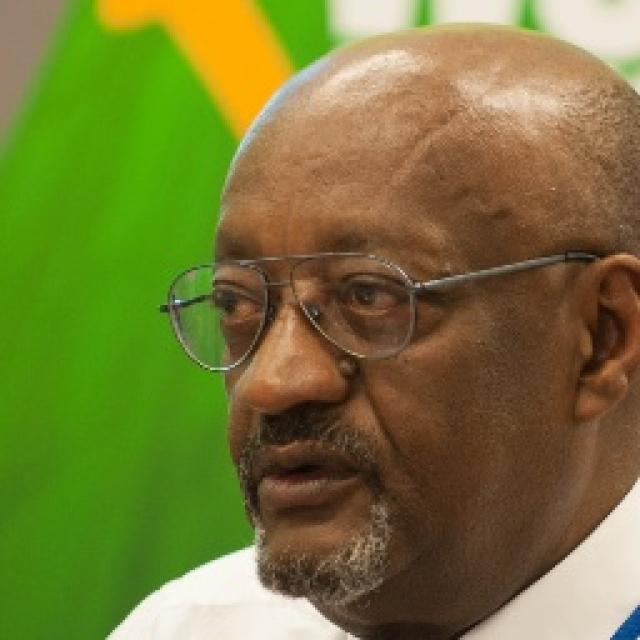earlobe: (572, 373, 616, 423)
eye: (336, 279, 410, 319), (216, 290, 264, 322)
nose: (247, 401, 350, 433)
wholeear: (572, 250, 640, 423)
